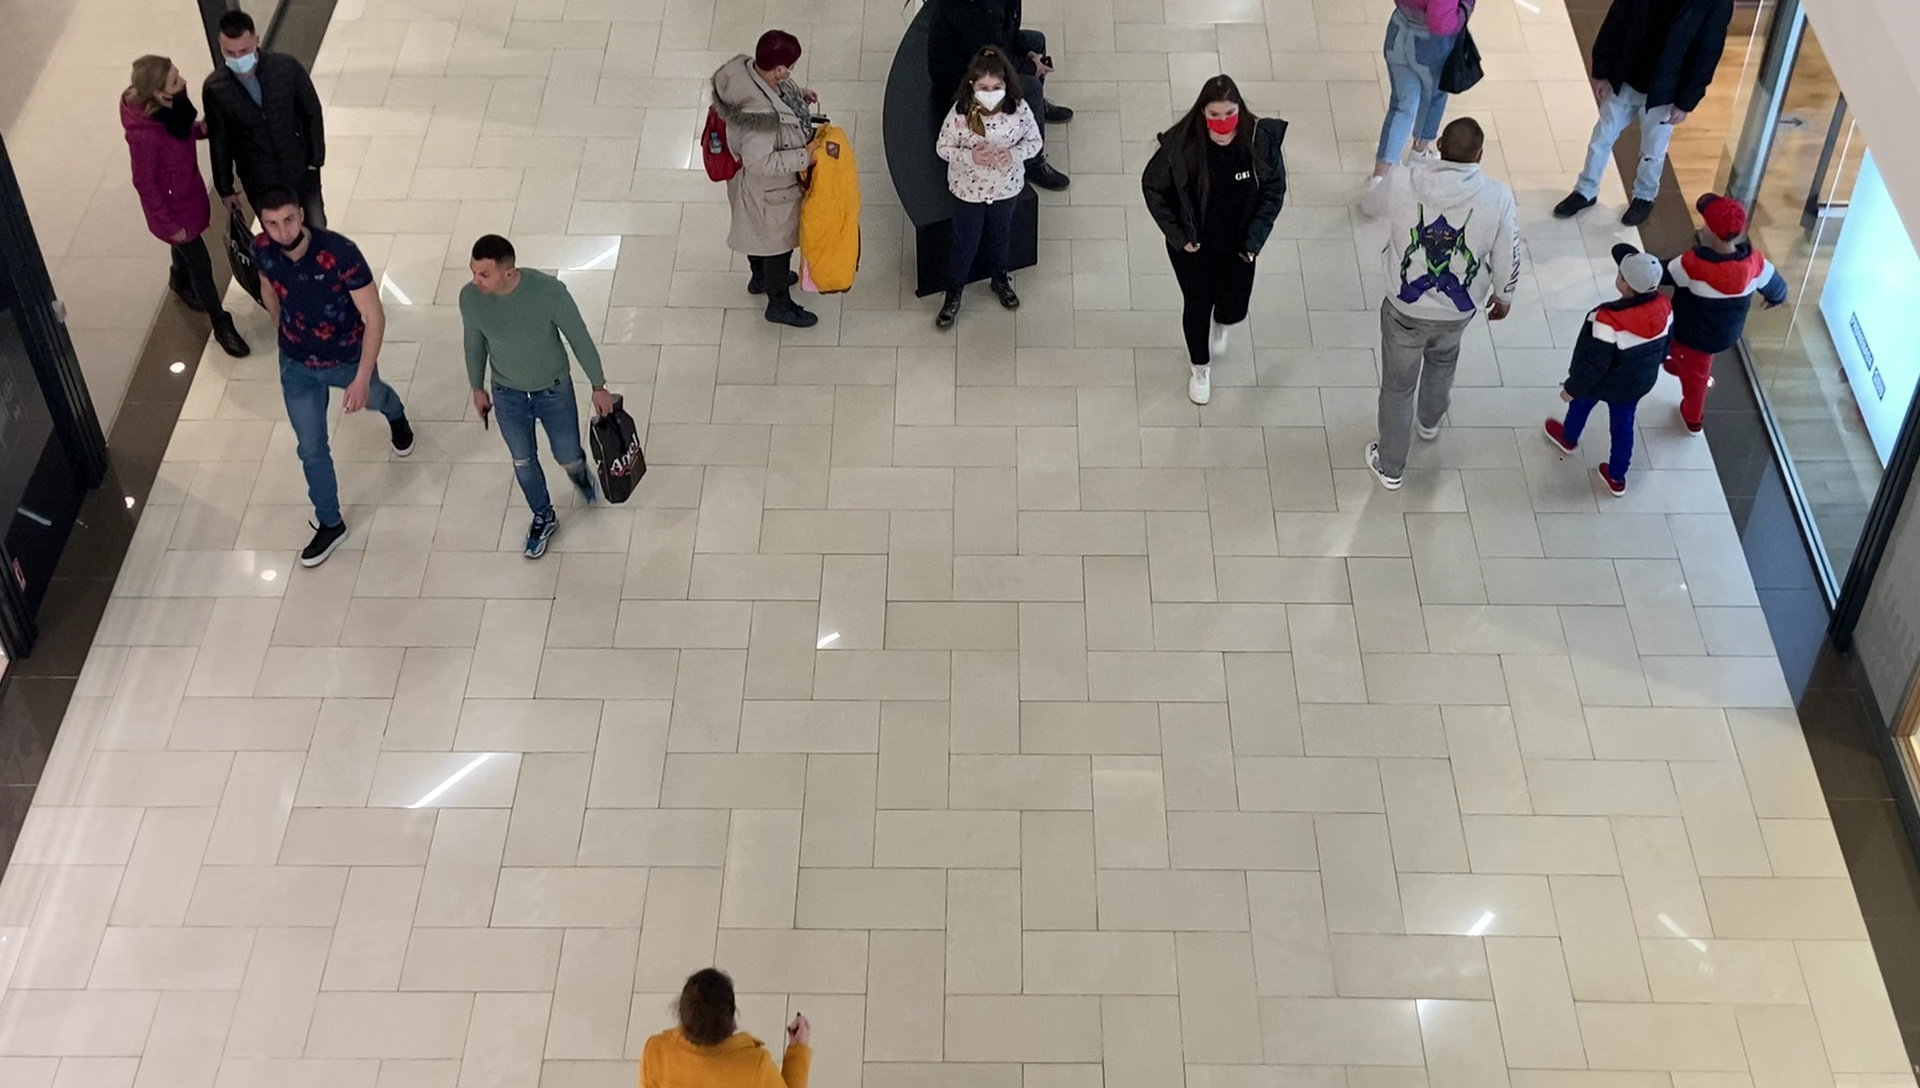person: (249, 192, 415, 567), (1360, 117, 1521, 489), (459, 236, 610, 562), (1143, 74, 1291, 404), (1553, 1, 1731, 224), (119, 55, 247, 358), (702, 29, 829, 329), (1544, 247, 1673, 500), (932, 51, 1044, 330), (1661, 194, 1787, 432), (207, 11, 327, 203)
